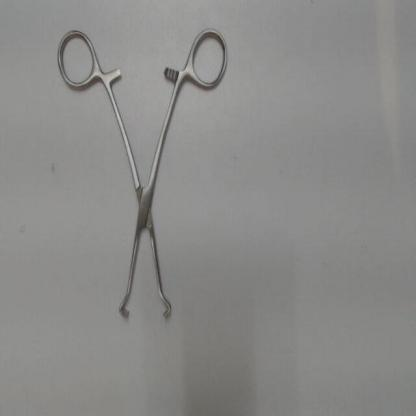Babcock Tissue Forceps: (54, 27, 234, 327)
